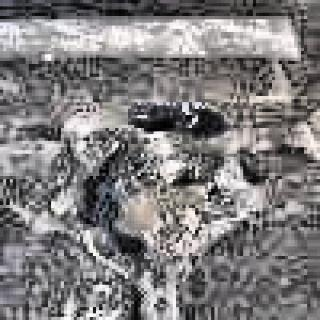pothole: (51, 99, 269, 320)
